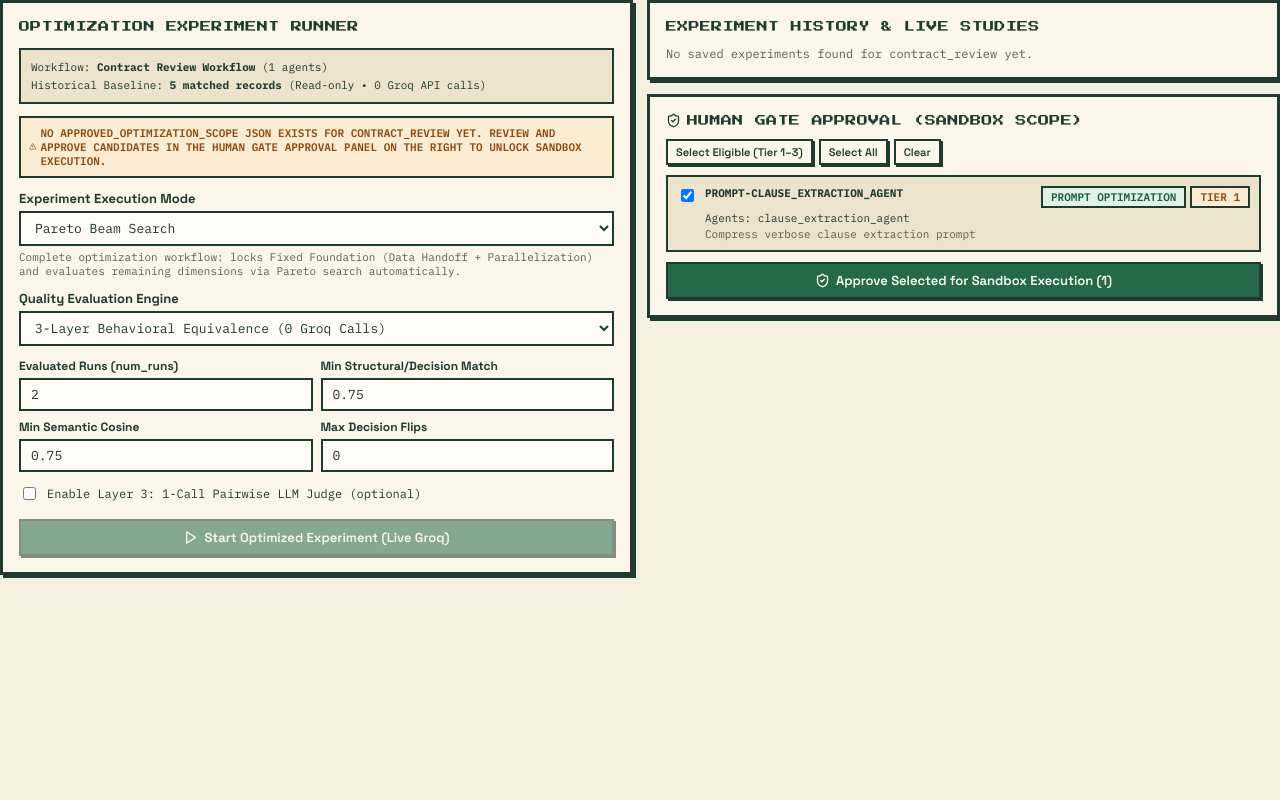
Test: ExperimentsPage execution modes & human gate approval › shows exactly two execution mode options and reveals dimension checkboxes only in Customized Optimizations
Check: the text "Select Optimization Dimensions (1 or more)" is not shown
Check: the text "3. Model Selection" is not shown
// Shown when switching to Customized Optimizations
Select "Customized Optimizations" in the dropdown labelled "Experiment Execution Mode" at (316, 228), box top-left (19, 210), bottom-right (614, 246)
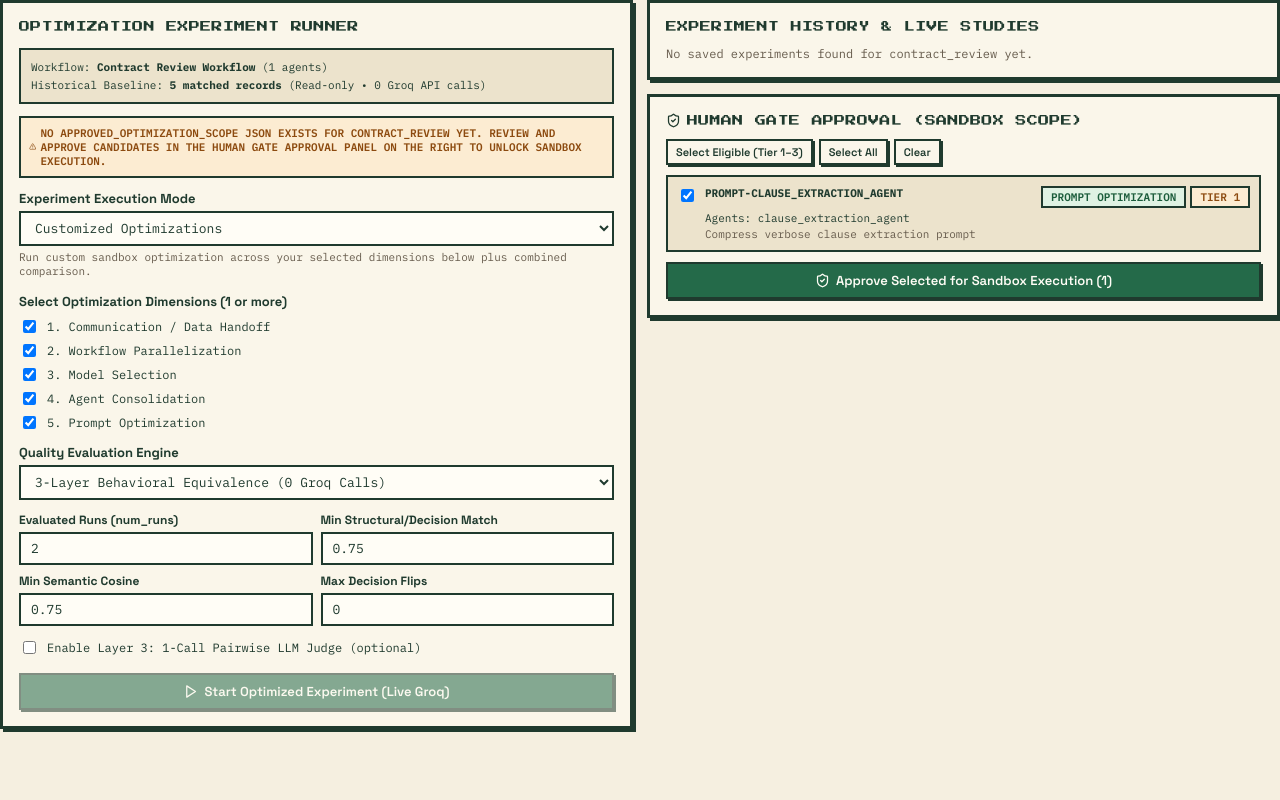
Check: the text "Select Optimization Dimensions (1 or more)" is shown, box top-left (19, 292), bottom-right (287, 310)
Check: the text "3. Model Selection" is shown, box top-left (23, 366), bottom-right (177, 382)
